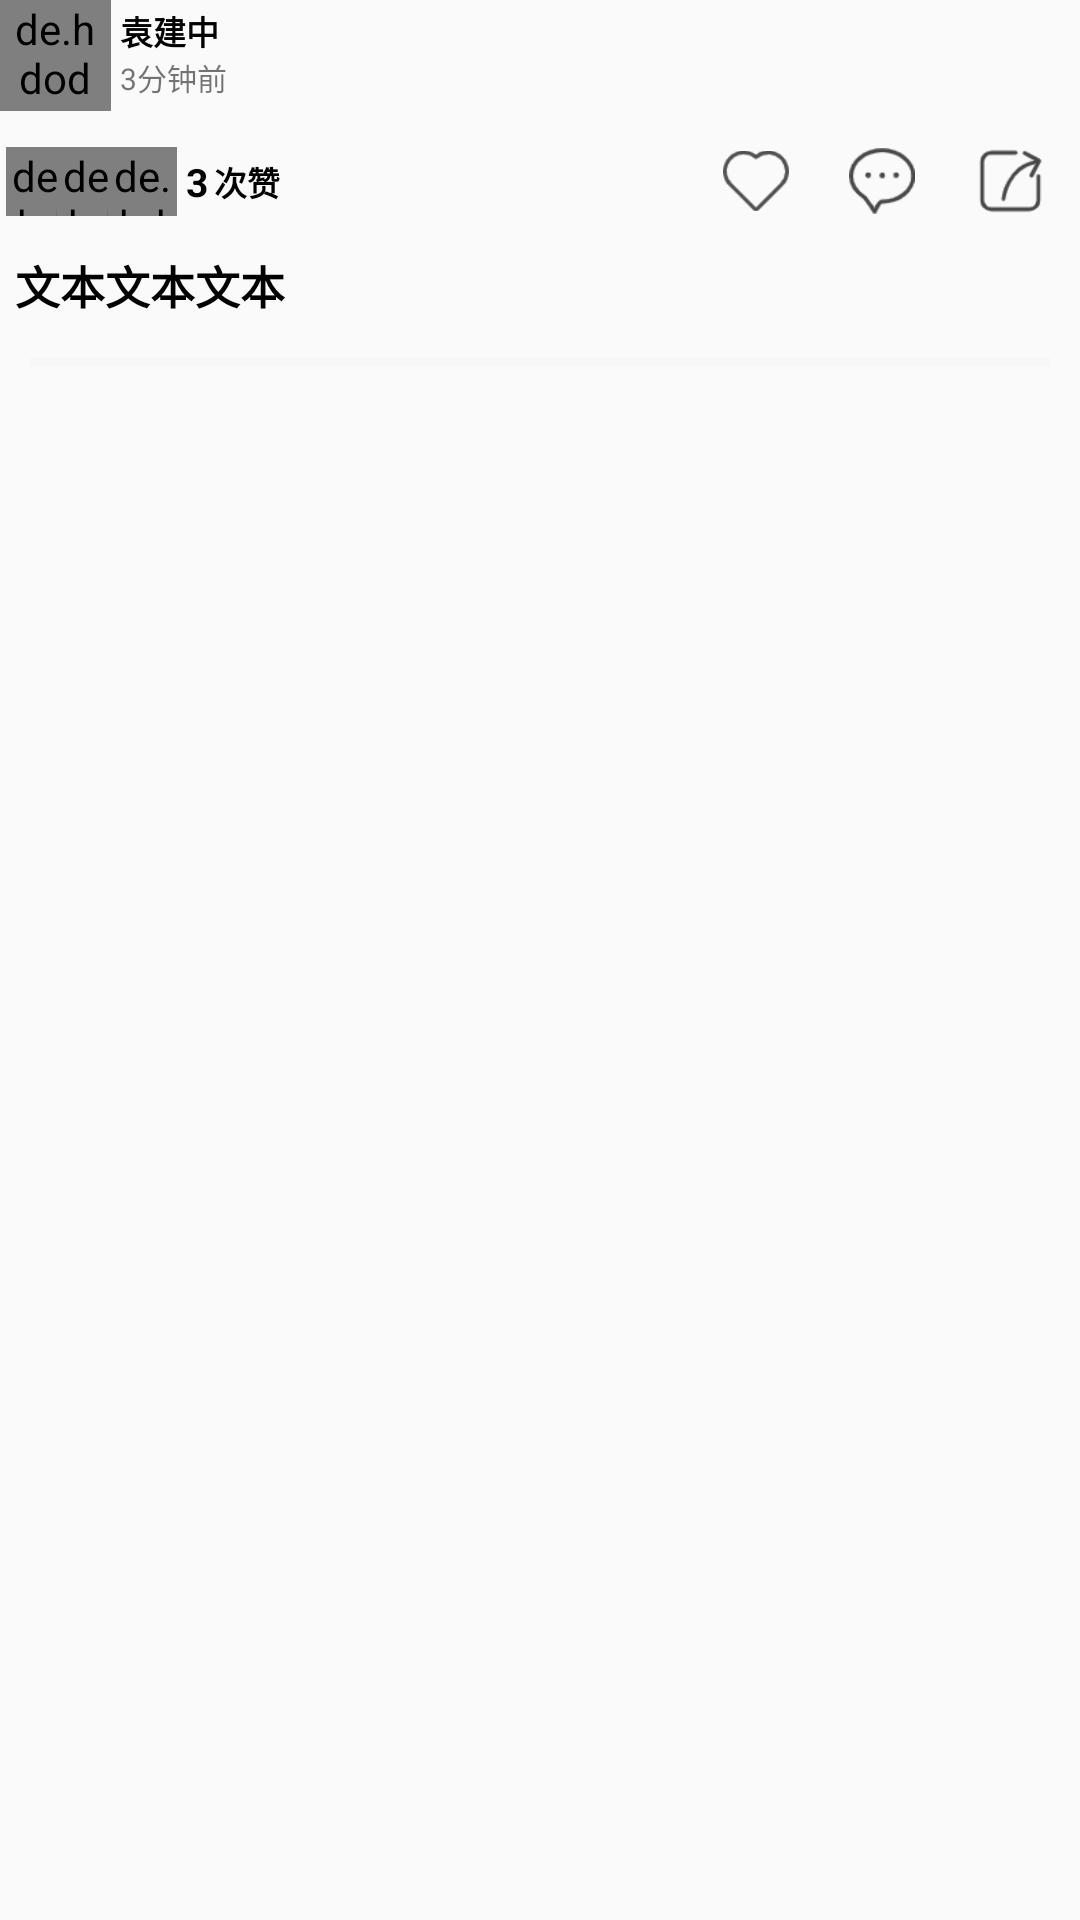

Locate icon controls on the screen. Image size 1080*1920, boxes as {"left": x1, "top": y1, "right": x2, "bottom": y2}.
comment: {"left": 849, "top": 148, "right": 915, "bottom": 214}
favor: {"left": 723, "top": 151, "right": 789, "bottom": 211}
relay: {"left": 979, "top": 150, "right": 1042, "bottom": 212}
